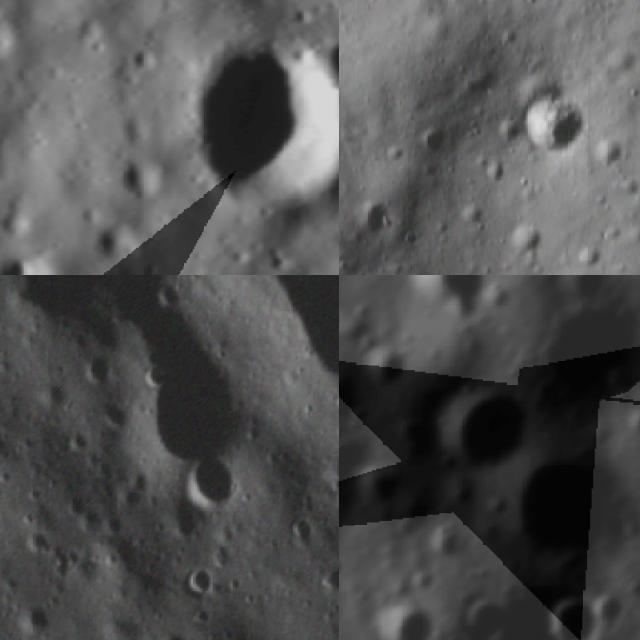crater: (162, 23, 339, 242), (120, 354, 276, 492), (490, 446, 640, 561), (510, 288, 640, 408), (240, 275, 339, 429), (23, 275, 178, 361), (426, 376, 544, 472), (173, 456, 253, 524), (521, 85, 585, 161), (83, 221, 152, 275), (396, 275, 491, 313), (103, 154, 165, 211), (543, 588, 604, 640), (364, 595, 431, 640), (456, 585, 510, 640), (388, 412, 446, 459), (389, 488, 434, 545), (351, 464, 402, 512), (0, 240, 57, 275), (358, 353, 410, 390), (81, 354, 124, 398), (590, 584, 627, 632), (181, 562, 218, 608), (0, 6, 24, 67), (17, 604, 57, 640), (429, 526, 467, 562), (57, 486, 93, 523), (41, 380, 76, 418), (315, 37, 339, 91), (20, 524, 54, 562), (101, 401, 130, 439), (508, 223, 542, 255), (360, 194, 389, 229), (287, 516, 316, 550), (449, 204, 487, 229), (325, 457, 339, 491), (439, 628, 467, 640), (339, 550, 347, 581)
